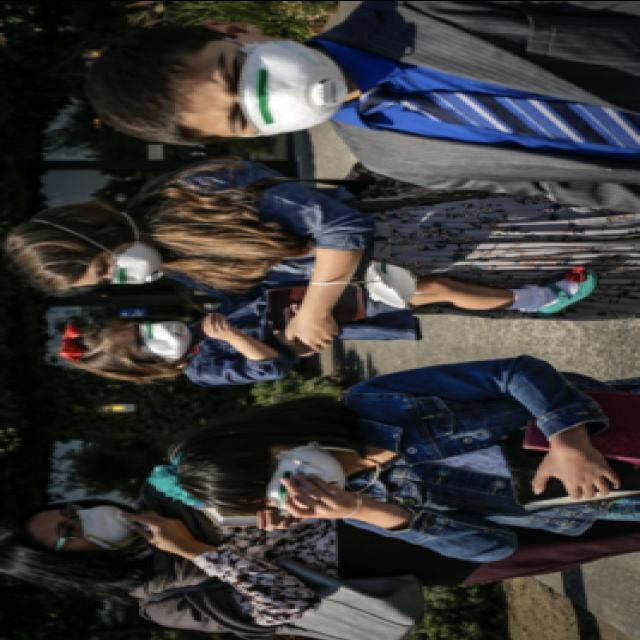mask: (206, 36, 348, 138), (256, 445, 350, 507), (48, 500, 139, 550), (84, 238, 165, 284), (125, 318, 192, 360)
